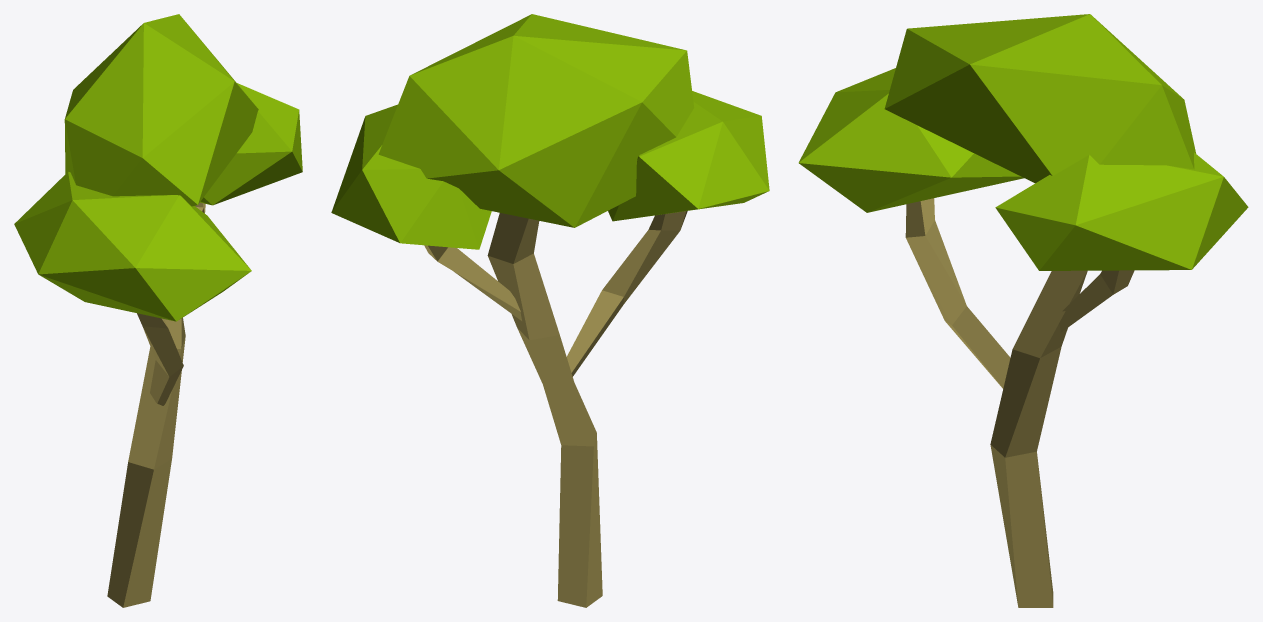
Rendered from Tree_Summer_2.fbx.
3 renders of one model, left to right at view 1: azimuth 30°, elevation 25°; view 2: azimuth 150°, elevation 25°; view 3: azimuth 270°, elevation 25°, orthographic. The views are drawn at different scales.
Visible parts, largest first — view 1: Leaves.002, Leaves.001, Trunk, Leaves, Trunk.002; view 2: Leaves.002, Trunk, Leaves.001, Leaves, Trunk.002, Trunk.001; view 3: Leaves.002, Leaves, Leaves.001, Trunk, Trunk.002, Trunk.001.
Part boxes in pixels (<box>): Leaves.002: <box>64,14,258,206</box>; Leaves.001: <box>14,172,251,321</box>; Trunk: <box>107,317,185,607</box>; Leaves: <box>200,83,302,205</box>; Trunk.002: <box>137,313,183,405</box>; Leaves.002: <box>378,14,694,227</box>; Trunk: <box>487,213,602,607</box>; Leaves.001: <box>608,91,769,221</box>; Leaves: <box>331,104,491,249</box>; Trunk.002: <box>566,211,687,376</box>; Trunk.001: <box>424,245,521,320</box>; Leaves.002: <box>884,14,1196,183</box>; Leaves: <box>995,152,1248,270</box>; Leaves.001: <box>798,68,1024,212</box>; Trunk: <box>990,270,1087,607</box>; Trunk.002: <box>905,198,1010,388</box>; Trunk.001: <box>1059,270,1134,332</box>.
Bounding box in the file's own units: 222 × 358 × 240.
